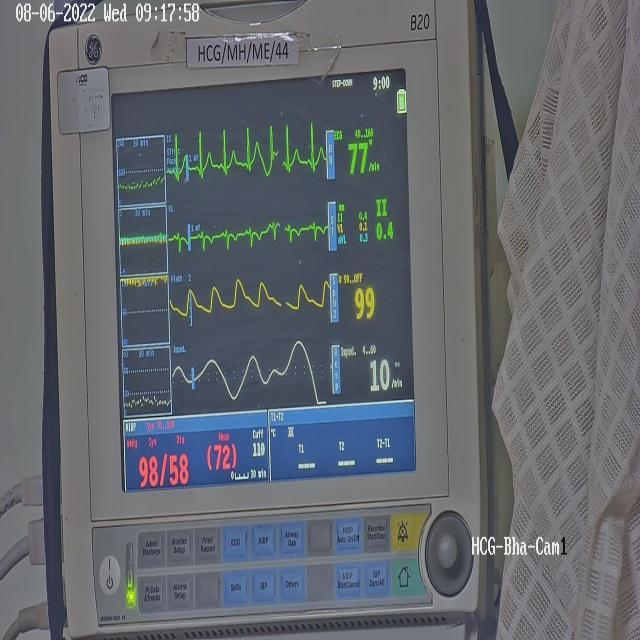Monitor: (39, 0, 494, 638)
